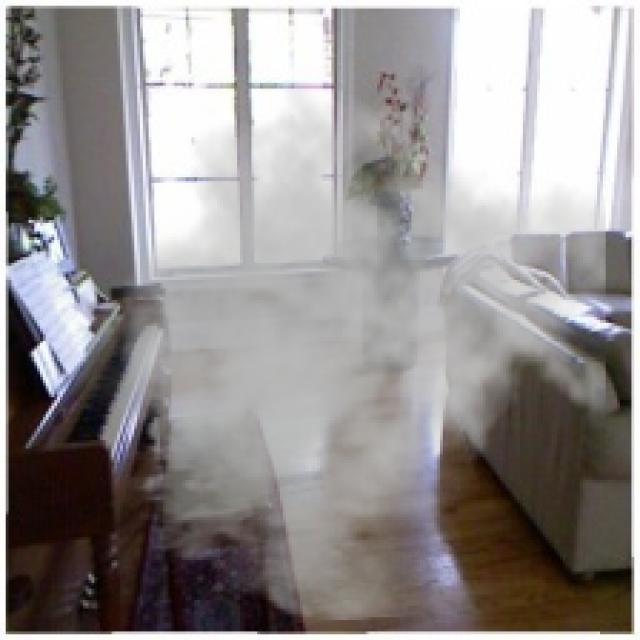smoke: (69, 80, 606, 623)
